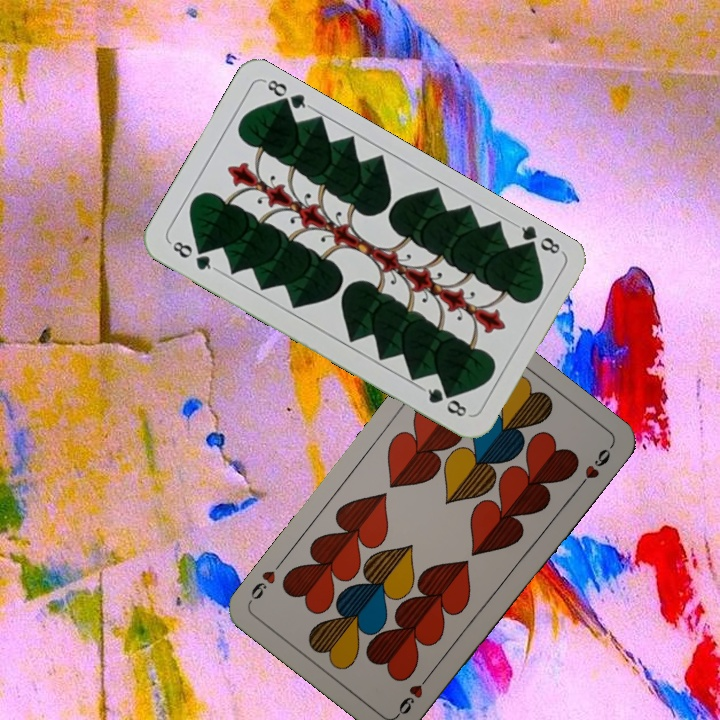G8: (511, 219, 563, 257), (166, 237, 220, 273)
H9: (392, 669, 434, 719)
